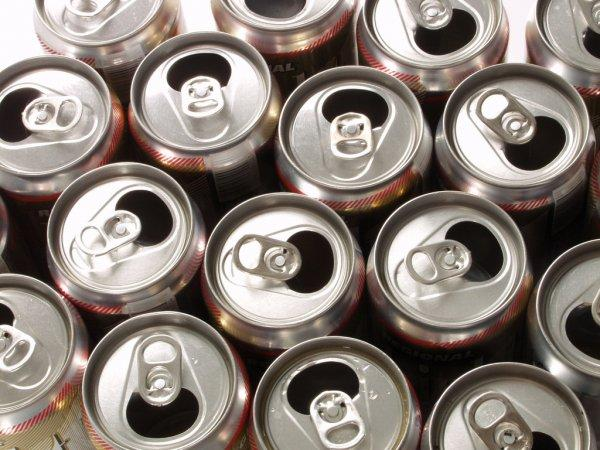metal: (369, 195, 531, 355), (208, 189, 371, 347), (42, 161, 205, 307), (82, 309, 249, 450), (435, 62, 590, 210), (272, 63, 431, 204), (132, 30, 276, 176), (254, 334, 425, 450), (0, 53, 129, 203), (0, 272, 89, 450), (421, 364, 597, 450), (355, 0, 506, 83), (535, 238, 600, 401), (17, 0, 180, 64), (212, 0, 357, 64), (518, 0, 600, 83)
